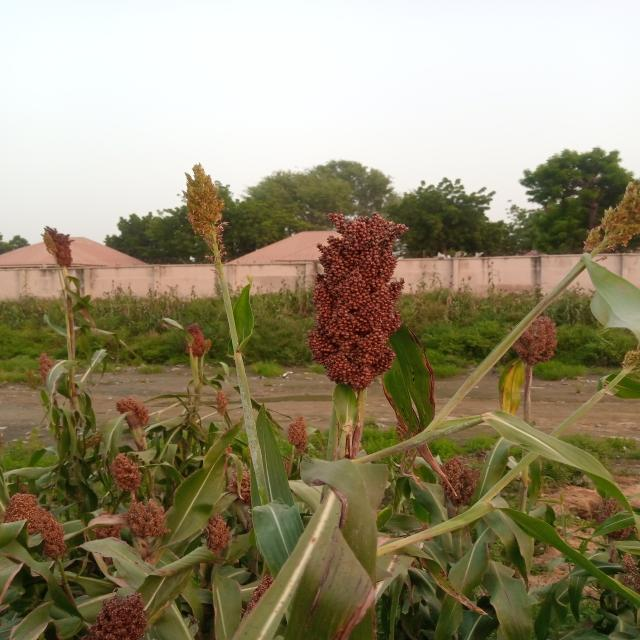RipeSorghum: (311, 199, 422, 395)
